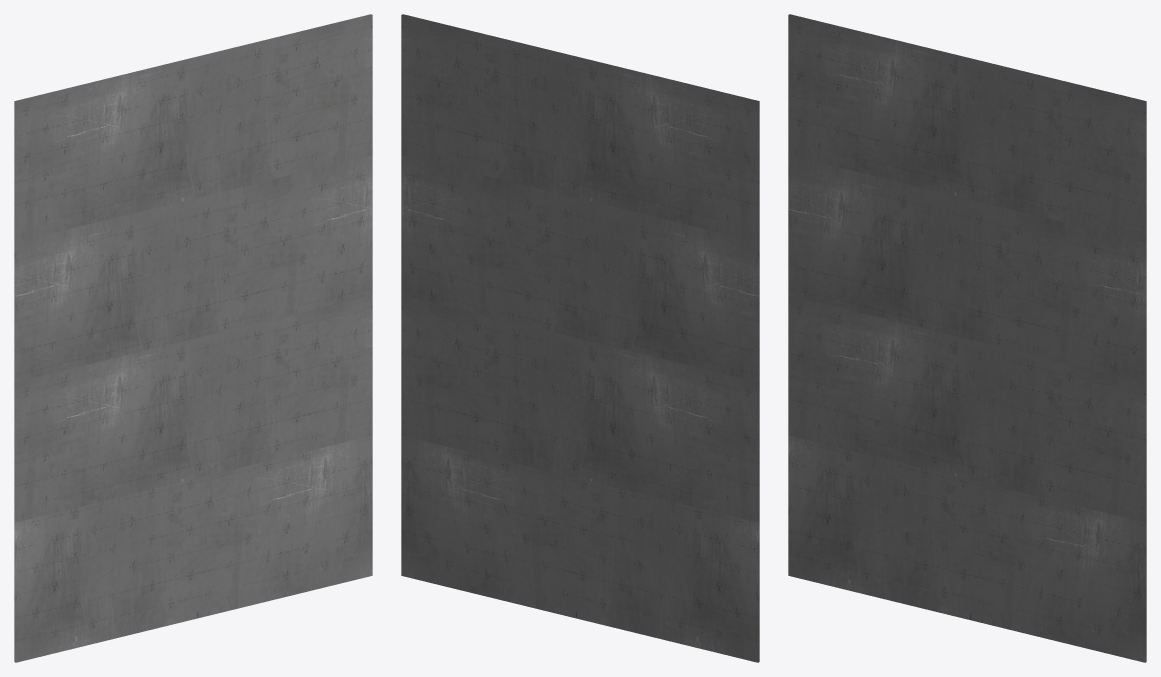
The model's file is FncMeshAShrA03.fbx.
3 views of the same model, side by side, from view 1: azimuth 30°, elevation 25°; view 2: azimuth 150°, elevation 25°; view 3: azimuth 330°, elevation 25° (orthographic).
Visible parts, largest first — view 1: FncMeshAShrA03; view 2: FncMeshAShrA03; view 3: FncMeshAShrA03.
Boxes of the visible parts, <box> form: FncMeshAShrA03: <box>14,14,372,662</box>; FncMeshAShrA03: <box>401,14,759,662</box>; FncMeshAShrA03: <box>788,14,1146,662</box>.
Bounding box in the file's own units: 100 × 150 × 0.551.
